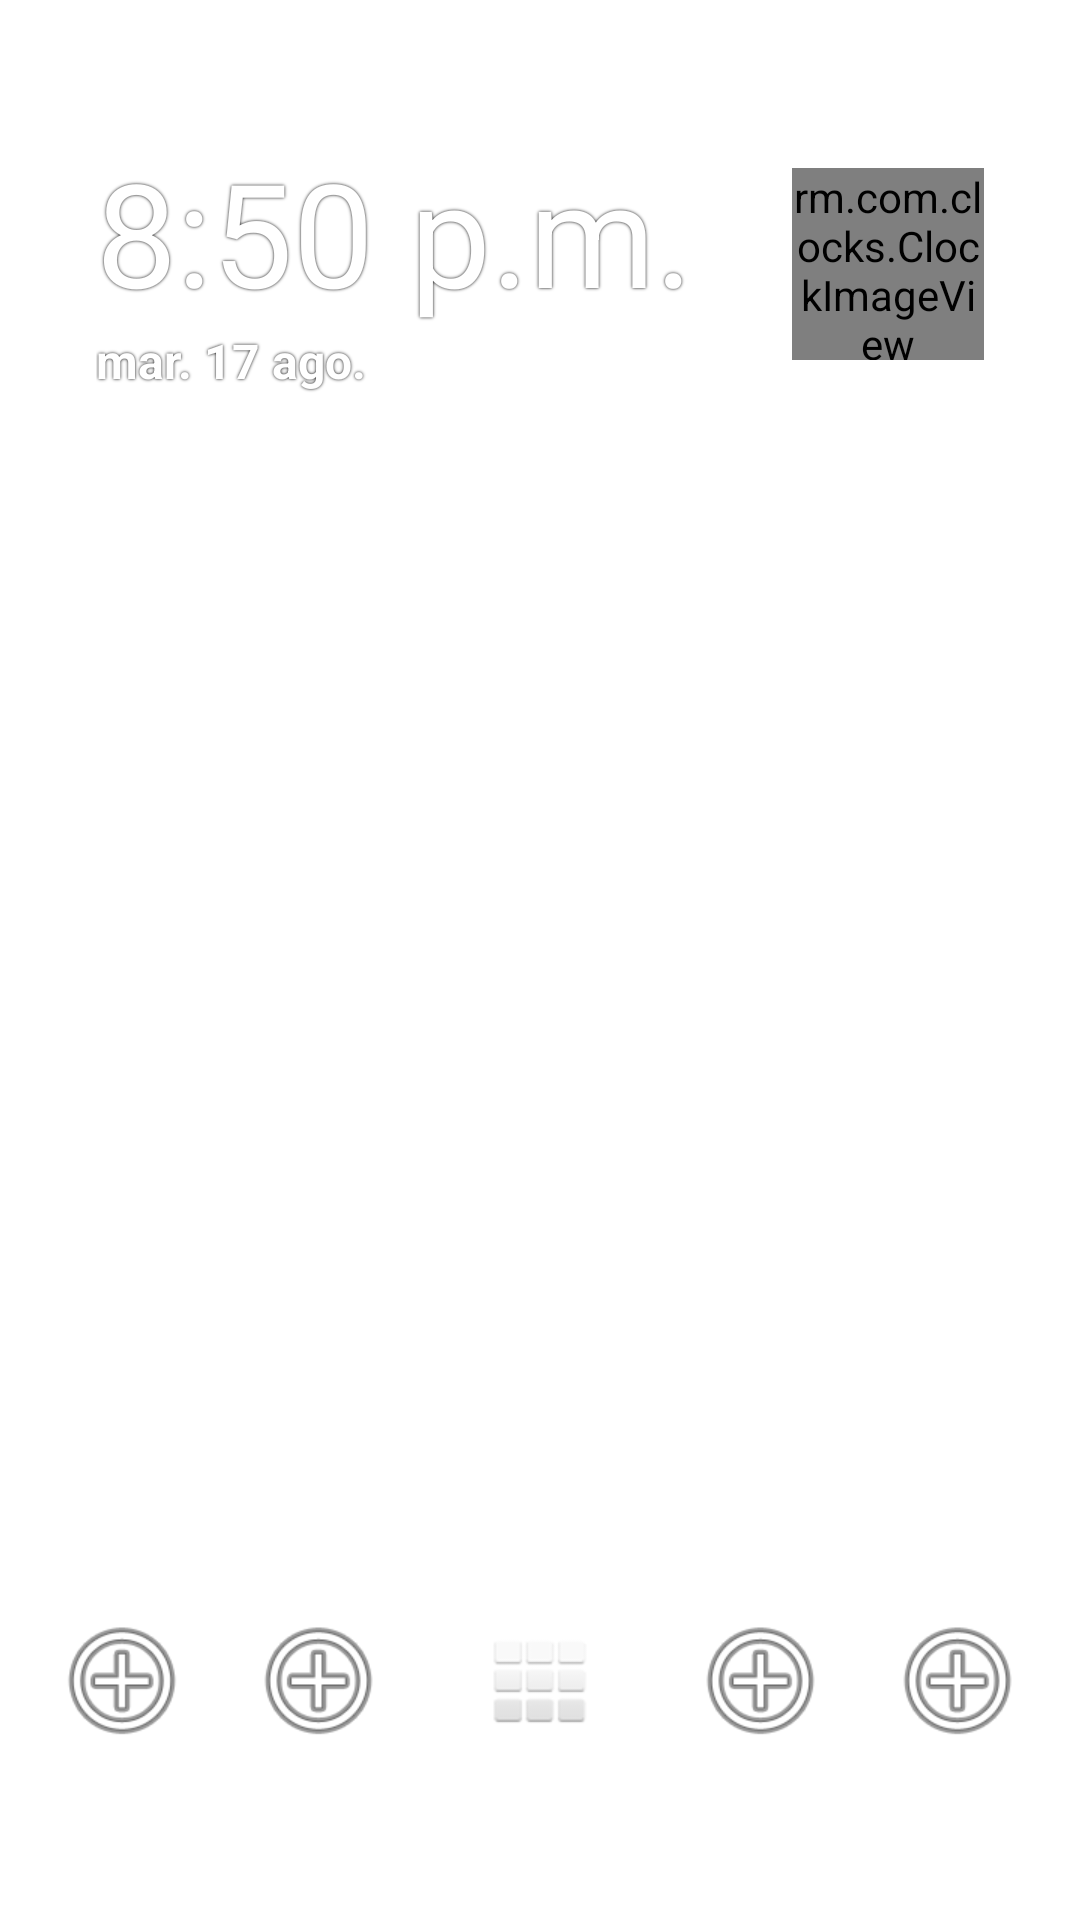

Named icons in this screenshot (1080 x 1920) and their centers, [x,y]:
Go to AppList: [539,1691]
